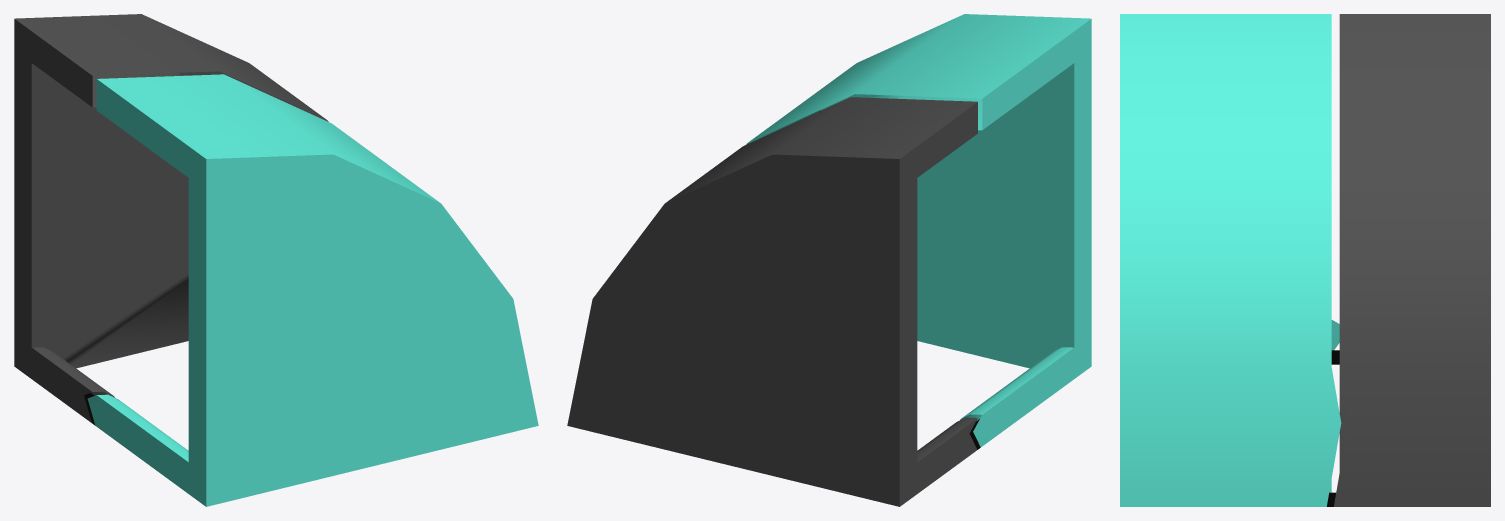
Rendered from Curved Pipe Model.fbx.
The picture shows the model from 3 angles, left to right: view 1: azimuth 30°, elevation 25°; view 2: azimuth 150°, elevation 25°; view 3: azimuth 270°, elevation 25°; orthographic projection. The views are drawn at different scales.
Visible parts, largest first — view 1: Main_Curved_Pipe; view 2: Main_Curved_Pipe; view 3: Main_Curved_Pipe.
Part boxes in pixels (left/top/right/bottom): Main_Curved_Pipe: left=14, top=14, right=538, bottom=506; Main_Curved_Pipe: left=567, top=14, right=1091, bottom=506; Main_Curved_Pipe: left=1120, top=14, right=1490, bottom=506.
Size of the model in its own units: 3.09 by 3.09 by 3.09.
1 material, 1 textured.
